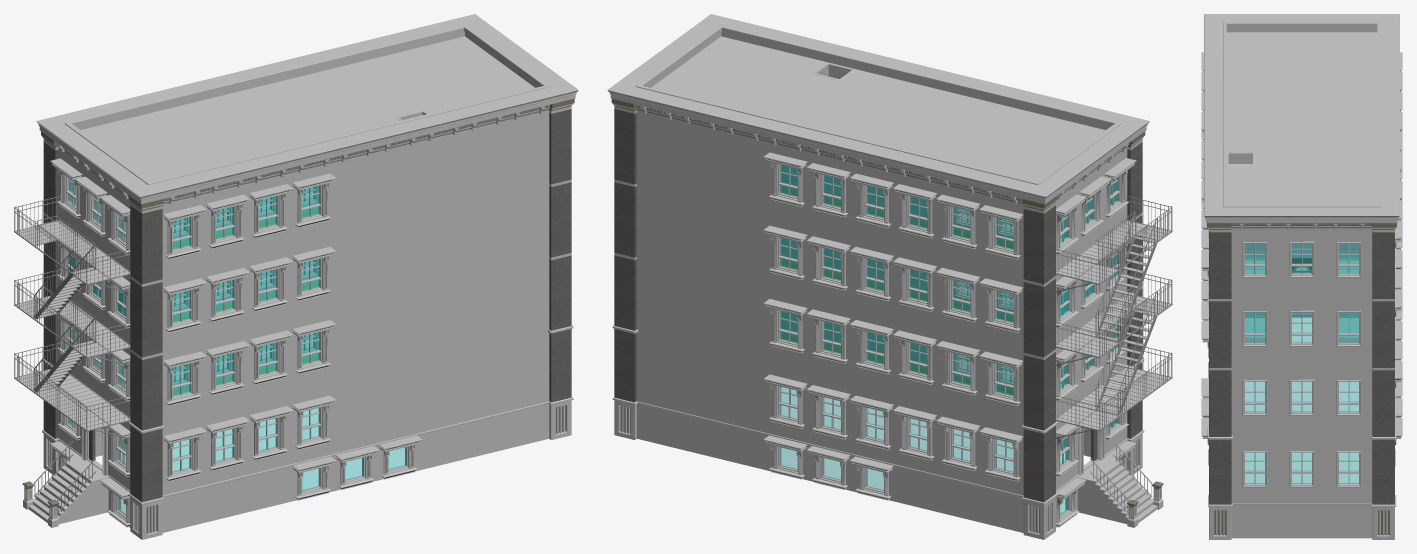
The model's file is SM_Building10_V1.fbx.
3 views of the same model, side by side, from view 1: azimuth 30°, elevation 25°; view 2: azimuth 150°, elevation 25°; view 3: azimuth 270°, elevation 25° (orthographic). The views are drawn at different scales.
Visible parts, largest first — view 1: SM_Building10_V1; view 2: SM_Building10_V1; view 3: SM_Building10_V1.
Part boxes in pixels (x1,y1,x2,y2): SM_Building10_V1: [14, 14, 578, 539]; SM_Building10_V1: [607, 14, 1172, 539]; SM_Building10_V1: [1201, 14, 1402, 539].
Size of the model in its own units: 2837 by 1921 by 1072.
